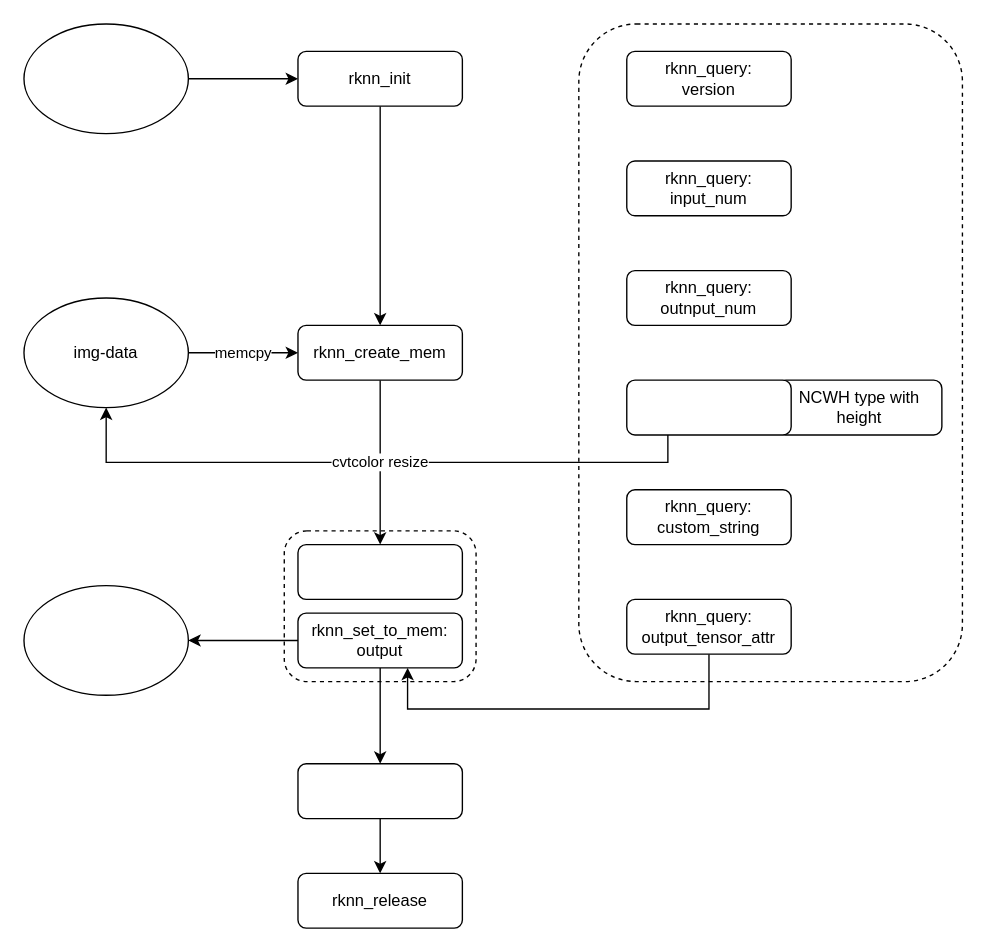
This 986x952 diagram has some shape labels left out. The shapes that lost their labels are listed below. From the top down, each one's box as (x1, y1, x2, y2) in pixels, then its label:
(23, 23, 188, 134): rknn_context
(625, 379, 791, 435): rknn_query: input_tensor_attr
(297, 543, 462, 599): rknn_set_to_mem: input
(23, 584, 188, 695): out_post
(297, 762, 462, 819): rknn_run
